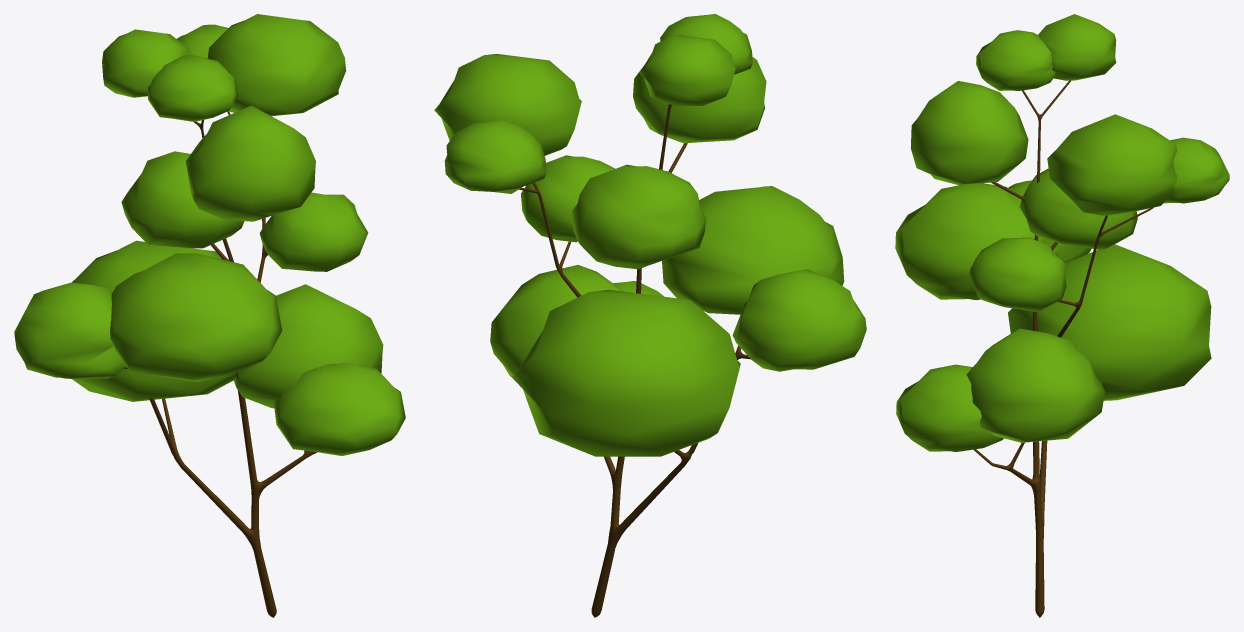
File: OpenTreeMK4.fbx
The picture shows the model from 3 angles, left to right: view 1: azimuth 30°, elevation 25°; view 2: azimuth 150°, elevation 25°; view 3: azimuth 270°, elevation 25°; orthographic projection. The views are drawn at different scales.
Visible parts, largest first — view 1: LeavesMK3.001, LeavesMK2.001, LeavesMK4.001, LeavesMK3, LeavesMK2, LeavesMK5, LeavesMK1, LeavesMK1.001, LeavesMK4, LeavesMK3.003, Cube, LeavesMK4.002 (+1 smaller); view 2: LeavesMK4, LeavesMK3.001, LeavesMK1, LeavesMK5, LeavesMK4.001, LeavesMK3.002, LeavesMK2.001, LeavesMK2, LeavesMK4.002, LeavesMK1.001, Cube, LeavesMK3.003; view 3: LeavesMK4, LeavesMK2, LeavesMK3.001, LeavesMK4.001, LeavesMK2.001, LeavesMK3, LeavesMK1.001, LeavesMK1, LeavesMK4.002, LeavesMK3.003, Cube, LeavesMK3.002 (+1 smaller).
Part boxes in pixels (<box>): LeavesMK3.001: <box>110,253,282,381</box>; LeavesMK2.001: <box>186,105,315,221</box>; LeavesMK4.001: <box>207,14,346,116</box>; LeavesMK3: <box>273,362,405,455</box>; LeavesMK2: <box>233,284,383,408</box>; LeavesMK5: <box>14,282,126,378</box>; LeavesMK1: <box>121,151,244,248</box>; LeavesMK1.001: <box>259,192,368,271</box>; LeavesMK4: <box>72,240,236,401</box>; LeavesMK3.003: <box>147,55,238,121</box>; Cube: <box>124,111,316,617</box>; LeavesMK4.002: <box>102,29,190,97</box>; LeavesMK4: <box>512,289,740,456</box>; LeavesMK3.001: <box>662,186,844,314</box>; LeavesMK1: <box>572,164,706,269</box>; LeavesMK5: <box>732,269,866,371</box>; LeavesMK4.001: <box>434,54,581,155</box>; LeavesMK3.002: <box>444,120,546,193</box>; LeavesMK2.001: <box>633,57,766,143</box>; LeavesMK2: <box>490,265,623,377</box>; LeavesMK4.002: <box>639,35,735,105</box>; LeavesMK1.001: <box>521,155,615,242</box>; Cube: <box>519,104,750,617</box>; LeavesMK3.003: <box>660,14,752,74</box>; LeavesMK4: <box>1008,244,1211,400</box>; LeavesMK2: <box>966,328,1104,442</box>; LeavesMK3.001: <box>895,183,1058,300</box>; LeavesMK4.001: <box>1047,114,1177,215</box>; LeavesMK2.001: <box>911,81,1028,185</box>; LeavesMK3: <box>896,364,1003,451</box>; LeavesMK1.001: <box>968,237,1066,311</box>; LeavesMK1: <box>1019,168,1137,249</box>; LeavesMK4.002: <box>1038,14,1116,80</box>; LeavesMK3.003: <box>976,30,1055,90</box>; Cube: <box>973,80,1153,617</box>; LeavesMK3.002: <box>1164,137,1229,203</box>.
Size of the model in its own units: 1973 by 3193 by 1767.
